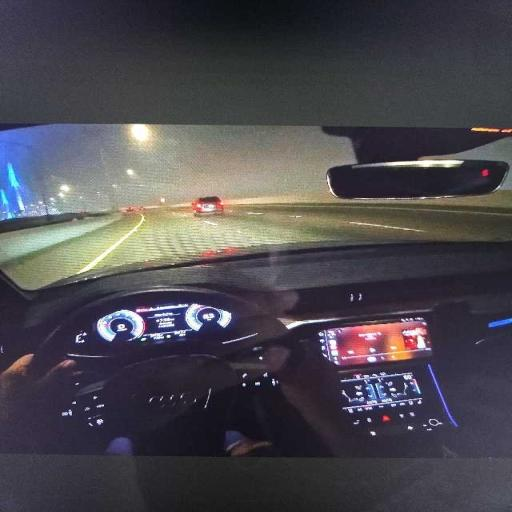car: (0, 128, 511, 481), (192, 196, 224, 214)
lane: (2, 205, 511, 288)
person: (0, 355, 75, 452)
